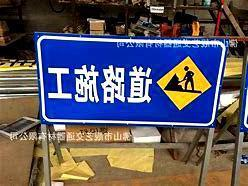sign: (37, 34, 227, 127)
